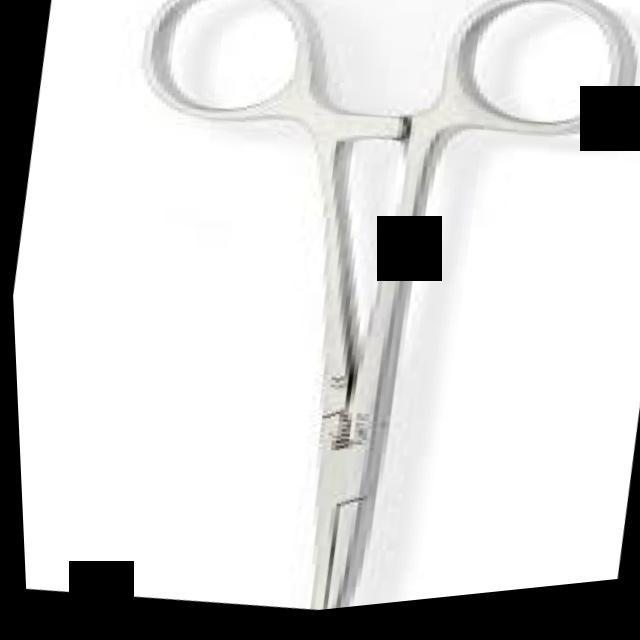Artery Forceps: (29, 0, 640, 638)
